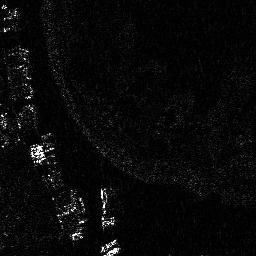ship: (99, 239, 118, 252)
